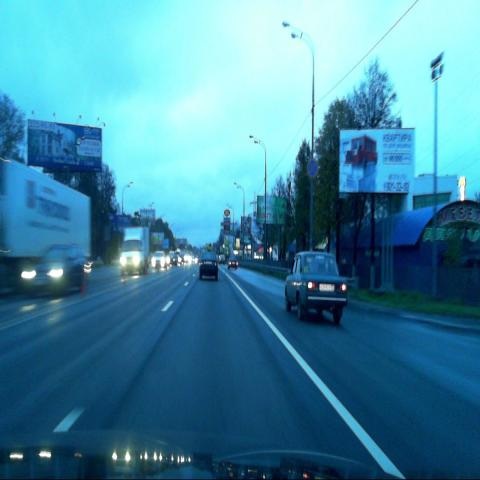3_27: (306, 159, 318, 179)
